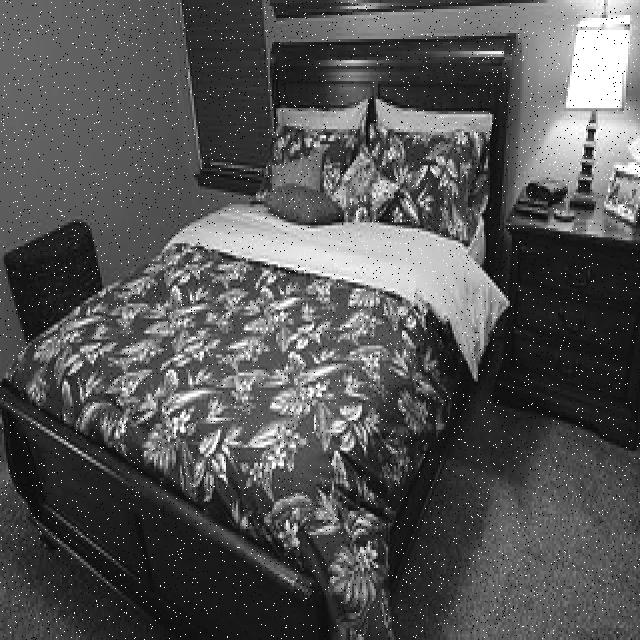bed: (6, 31, 512, 557)
